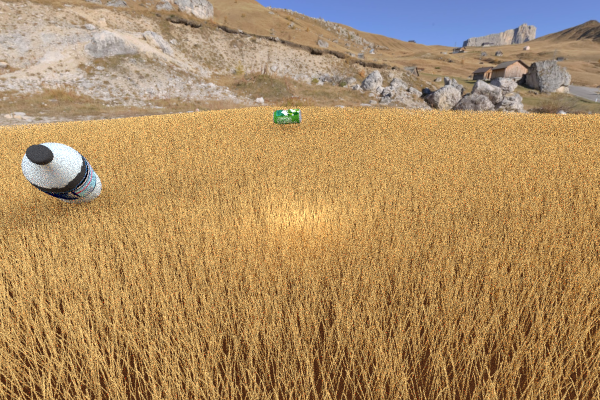bottle: (21, 142, 101, 204)
can: (273, 108, 301, 124)
